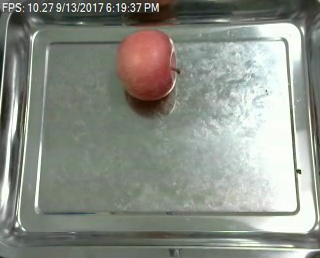Apple: (114, 26, 176, 106)
